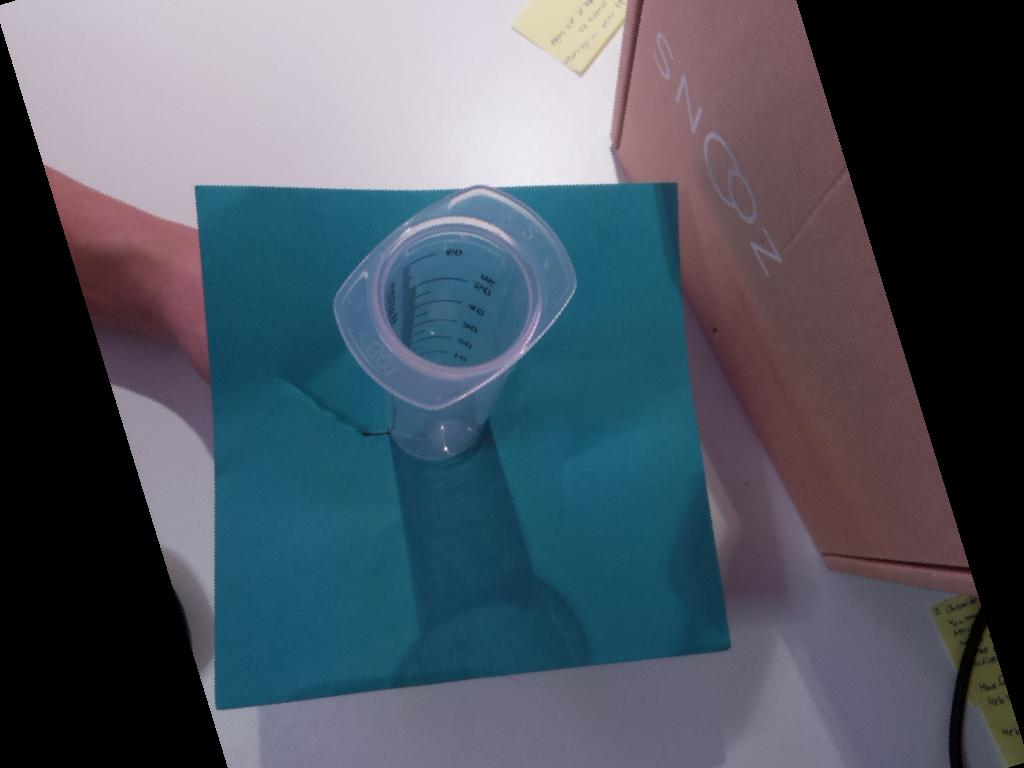clean: (330, 186, 579, 413)
